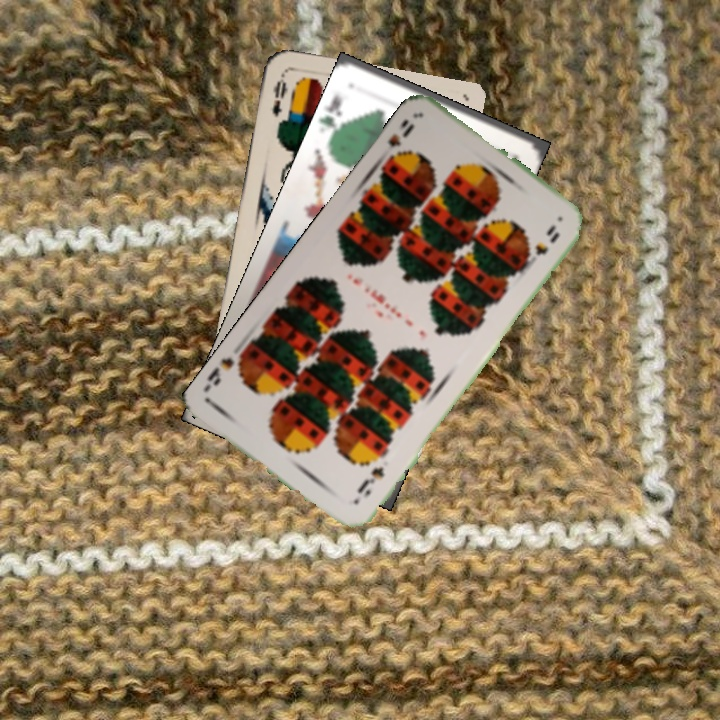EO: (268, 70, 291, 119)
GK: (318, 90, 347, 140)
S9: (381, 119, 417, 166), (353, 462, 387, 499)
